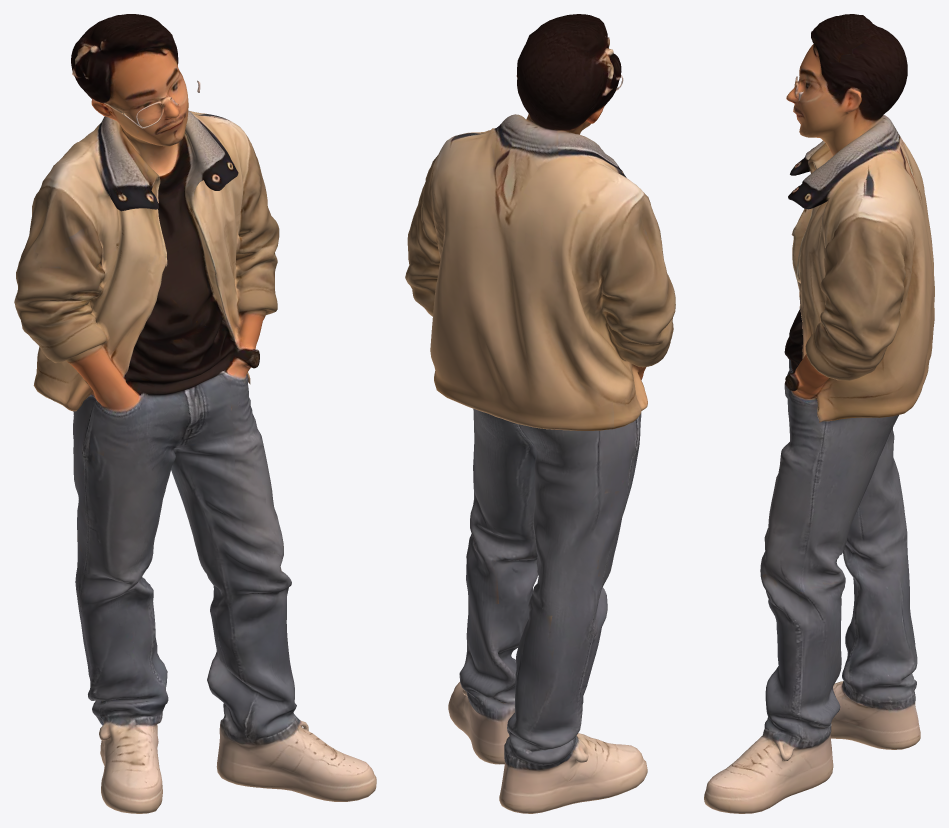
The model's file is fengbro.glb.
3 renders of one model, left to right at view 1: azimuth 30°, elevation 25°; view 2: azimuth 150°, elevation 25°; view 3: azimuth 270°, elevation 25°, orthographic. The views are drawn at different scales.
Parts seen in each view (by area): view 1: model; view 2: model; view 3: model.
Part boxes in pixels (<box>): model: <box>14,14,376,813</box>; model: <box>405,14,675,813</box>; model: <box>704,14,934,813</box>.
Size of the model in its own units: 0.74 by 1.9 by 0.556.
Materials: 1 (1 with a texture image).
